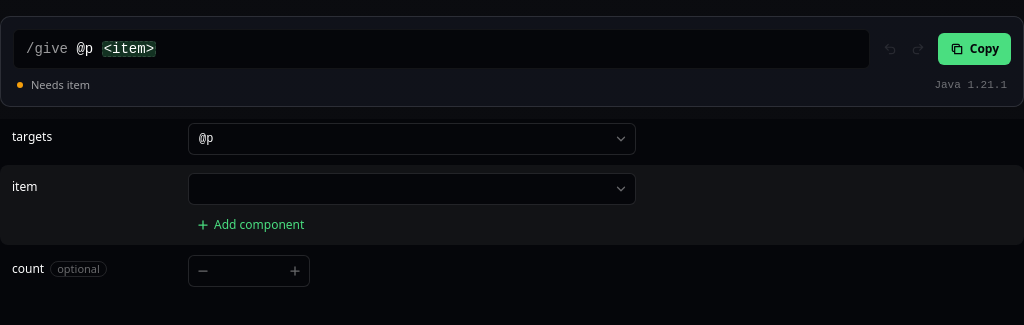
Test: an item that does not exist in this version warns without blocking the output
Type "copper_sword" into the dropdown named "Item" at (412, 188), box [188,172,636,204]
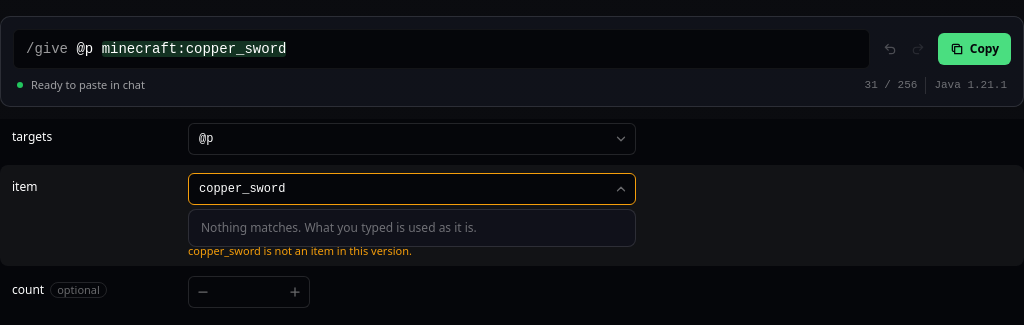
Result: the text "copper_sword is not an item in this version." is shown at [188,242,412,258]
Result: the element showing "/give @p minecraft:copper_sword" is shown at [26,39,286,59]
